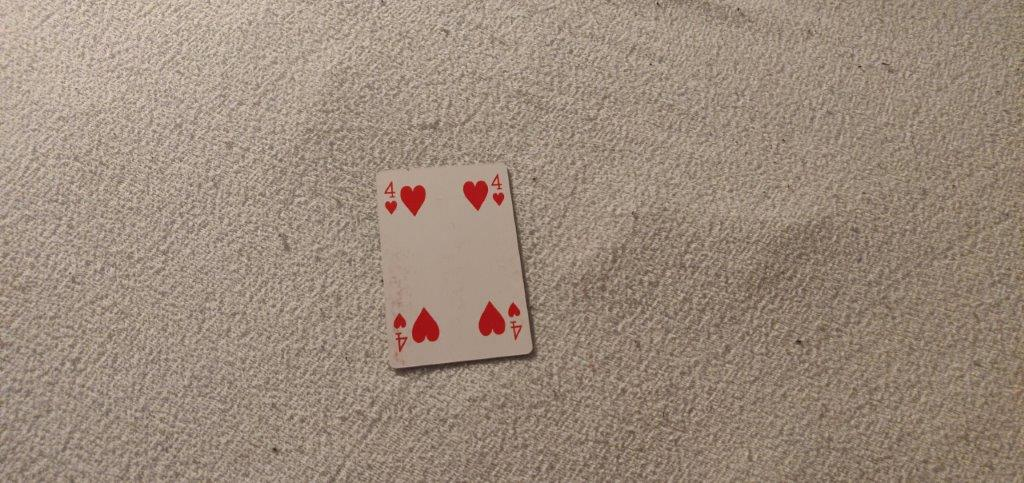4H: (382, 178, 400, 217), (490, 172, 507, 210)
